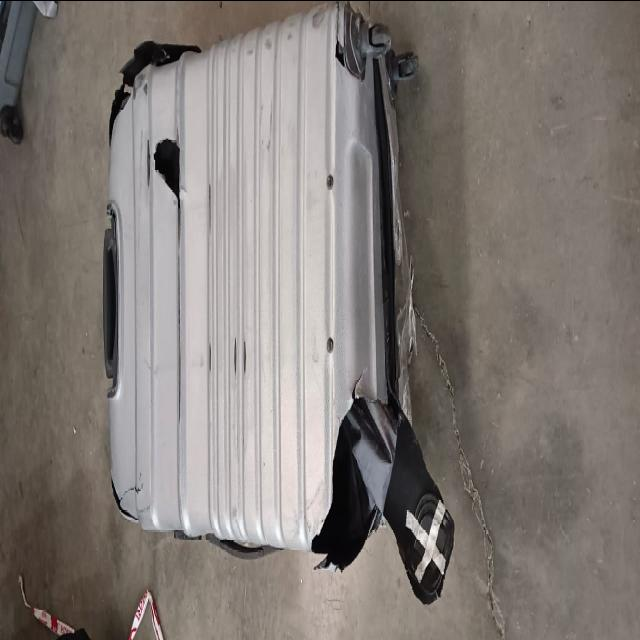Damage-bag: (312, 62, 453, 601), (110, 40, 199, 133), (154, 137, 180, 198), (111, 478, 138, 521), (336, 40, 344, 62), (122, 487, 139, 496), (110, 207, 116, 221)
